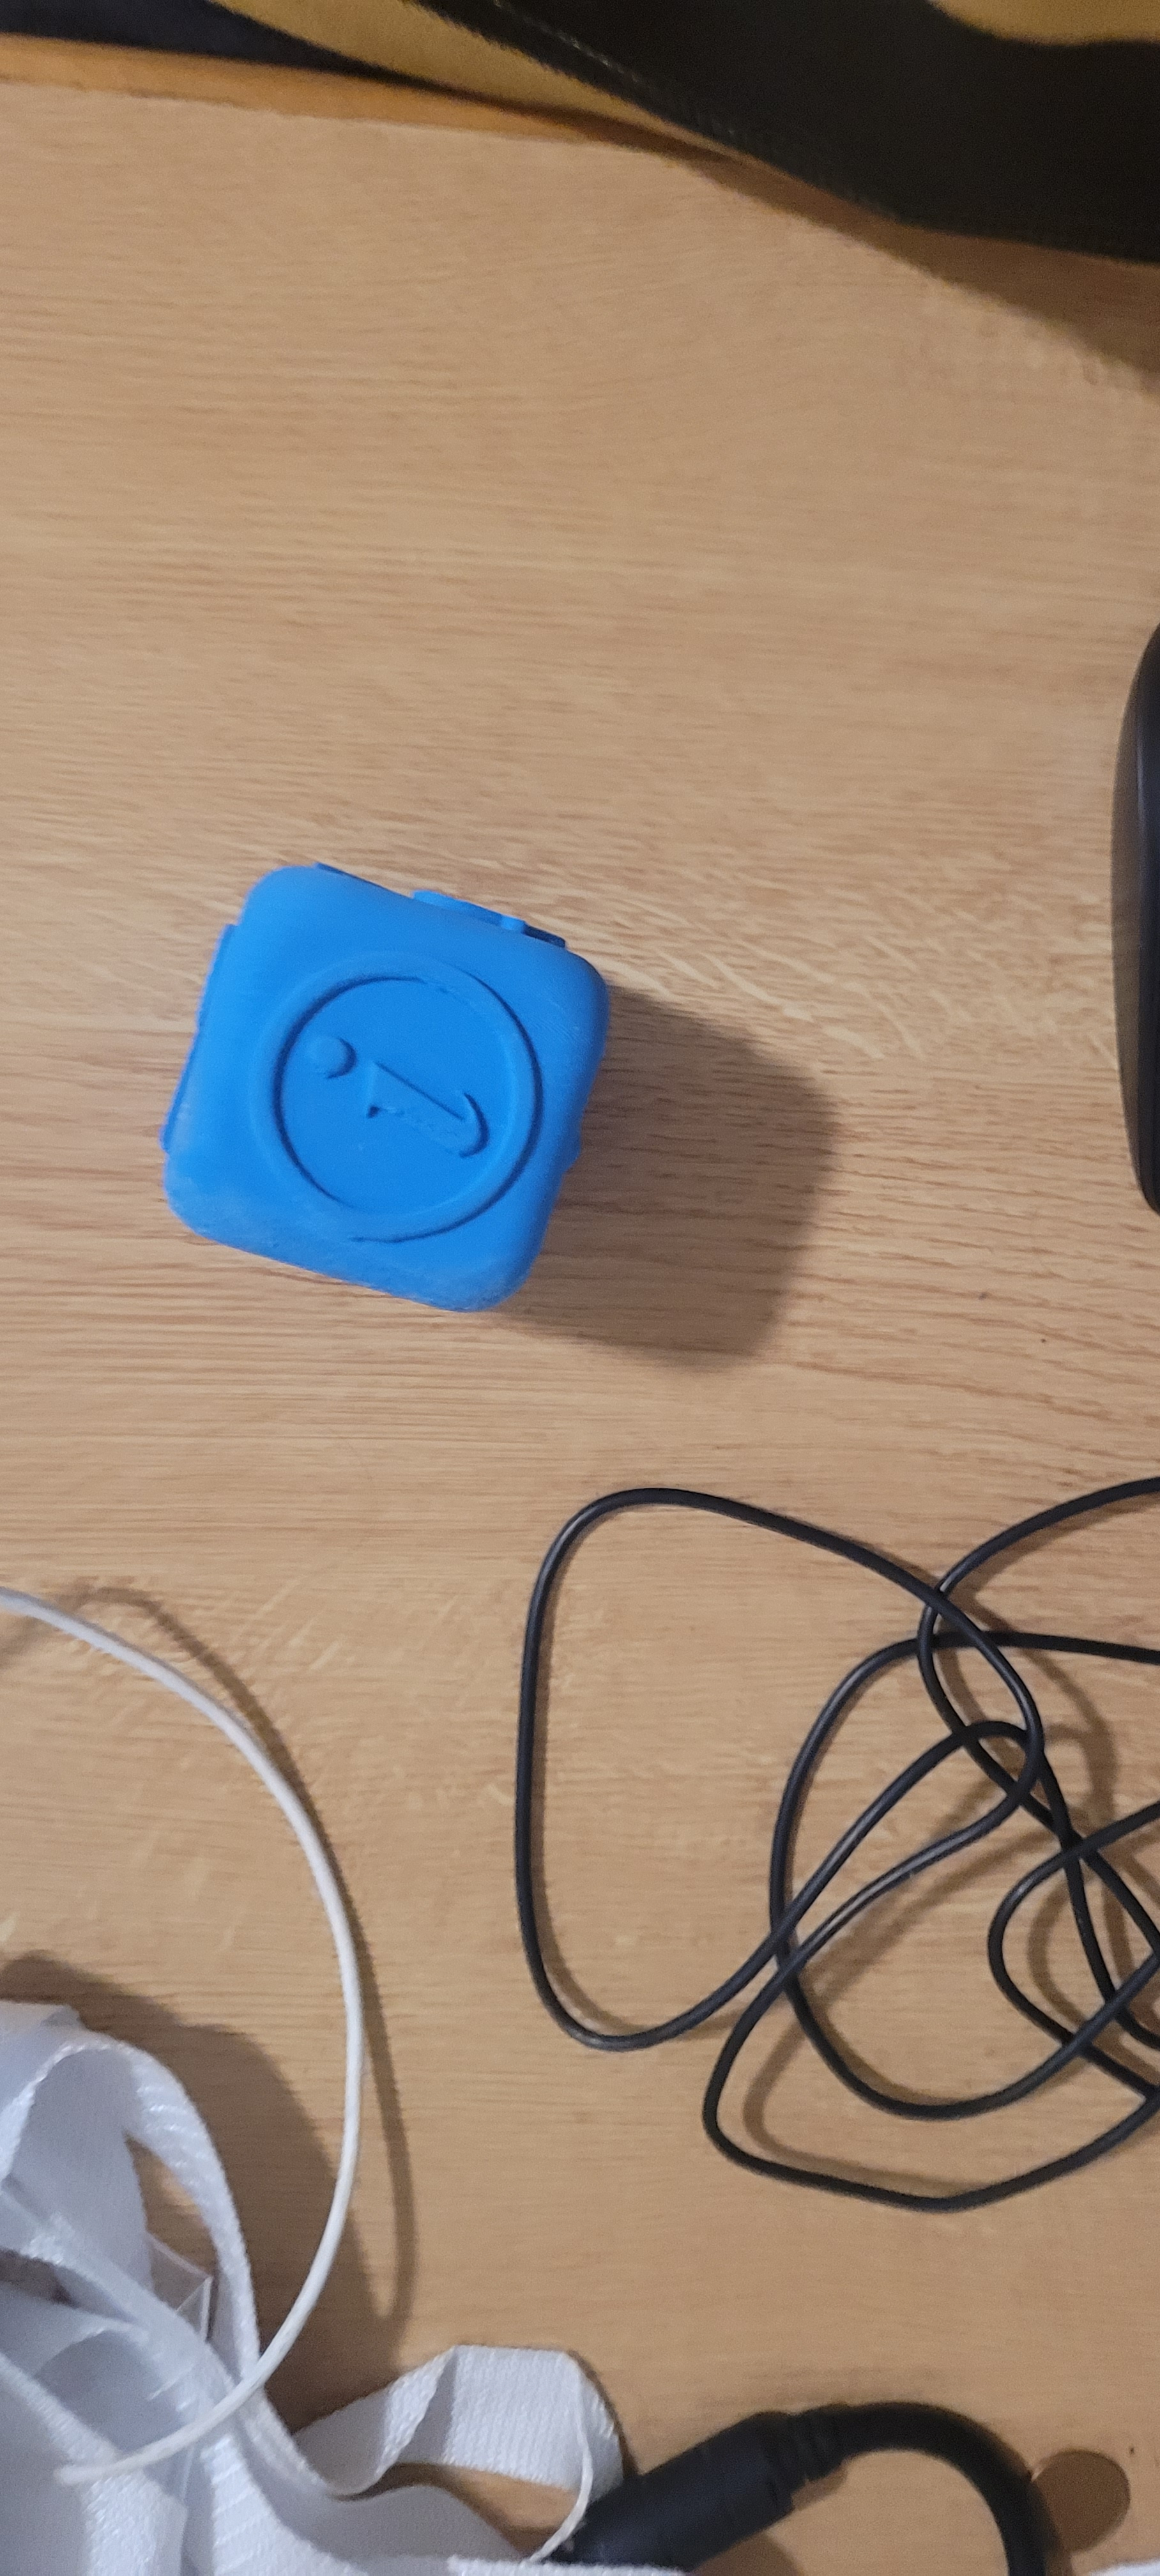Info: (248, 904, 575, 1268)
